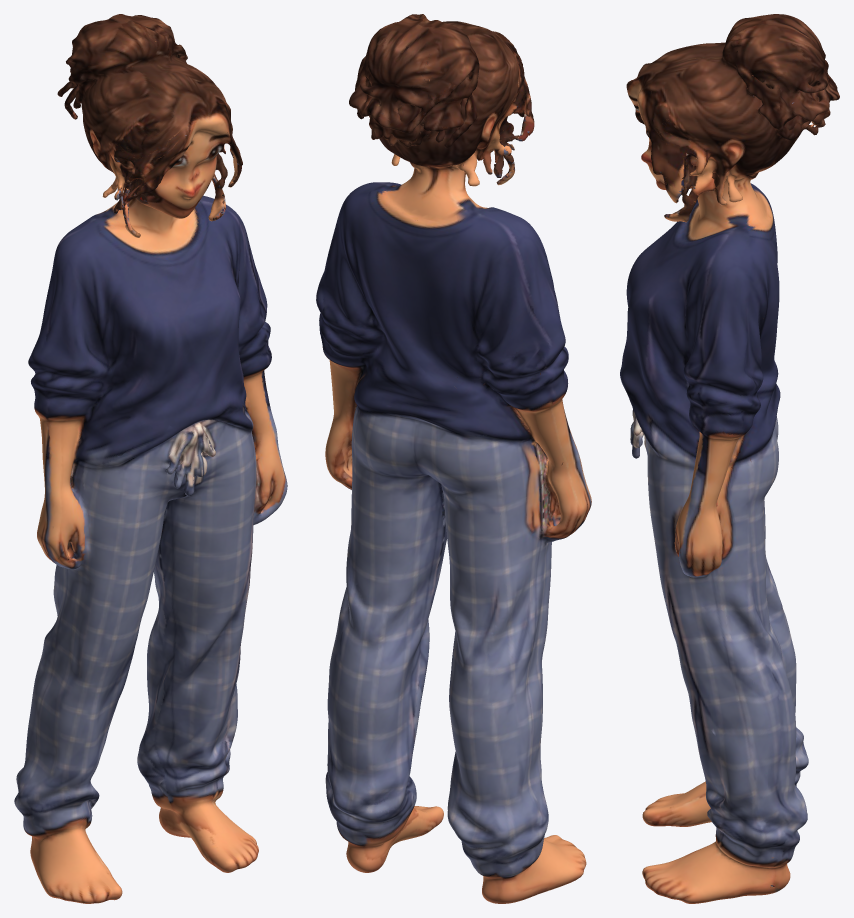
Rendered from character_ai.glb.
3 views of the same model, side by side, from view 1: azimuth 30°, elevation 25°; view 2: azimuth 150°, elevation 25°; view 3: azimuth 270°, elevation 25° (orthographic). The views are drawn at different scales.
Visible parts, largest first — view 1: Character; view 2: Character; view 3: Character.
Part boxes in pixels (x1,y1,x2,y2): Character: [14, 14, 287, 903]; Character: [316, 14, 591, 903]; Character: [620, 14, 839, 903].
Bounding box in the file's own units: 0.5401 × 1.74 × 0.4121.
Materials: 1 (1 with a texture image).
